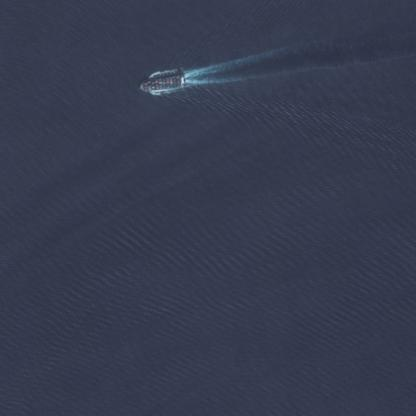ship: (136, 65, 187, 94)
